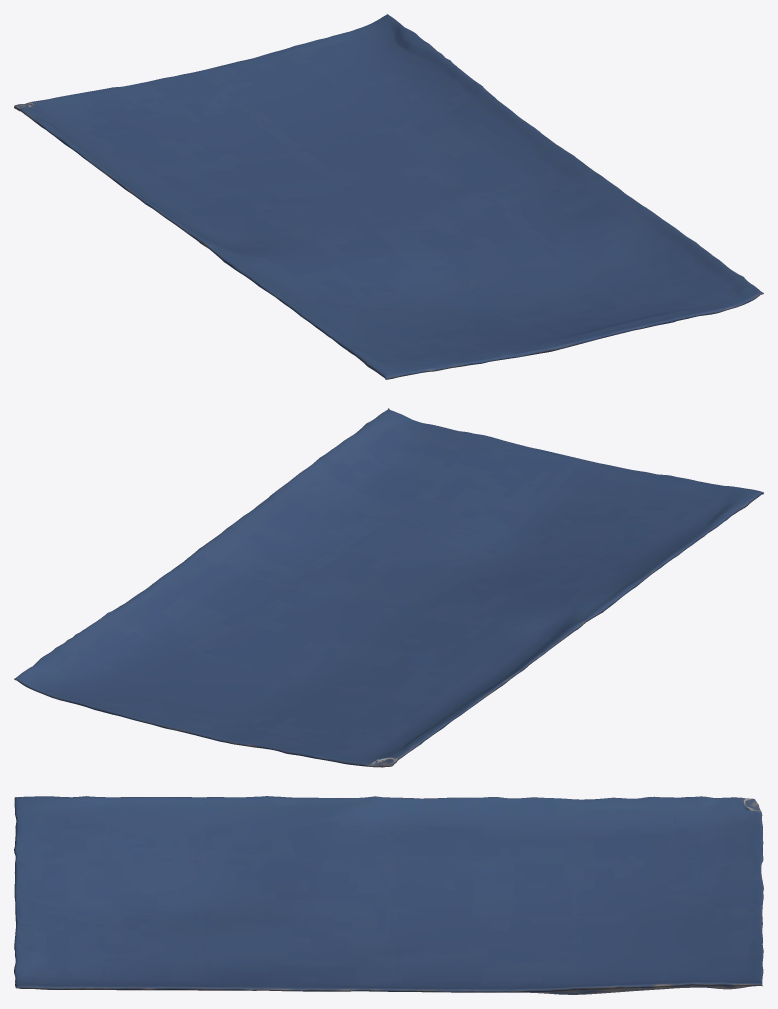
The model's file is sticky-mat.glb.
3 views of the same model, one above another, from view 1: azimuth 30°, elevation 25°; view 2: azimuth 150°, elevation 25°; view 3: azimuth 270°, elevation 25° (orthographic).
Visible parts, largest first — view 1: tripo_node_94d40a23-4b47-4532-b71c-75a3fd088f38; view 2: tripo_node_94d40a23-4b47-4532-b71c-75a3fd088f38; view 3: tripo_node_94d40a23-4b47-4532-b71c-75a3fd088f38.
Boxes of the visible parts, bbox=[...] form: tripo_node_94d40a23-4b47-4532-b71c-75a3fd088f38: bbox=[14, 14, 763, 379]; tripo_node_94d40a23-4b47-4532-b71c-75a3fd088f38: bbox=[14, 408, 763, 767]; tripo_node_94d40a23-4b47-4532-b71c-75a3fd088f38: bbox=[14, 796, 763, 994].
Bounding box in the file's own units: 0.5805 × 0.0605 × 1.
Materials: 1 (1 with a texture image).
